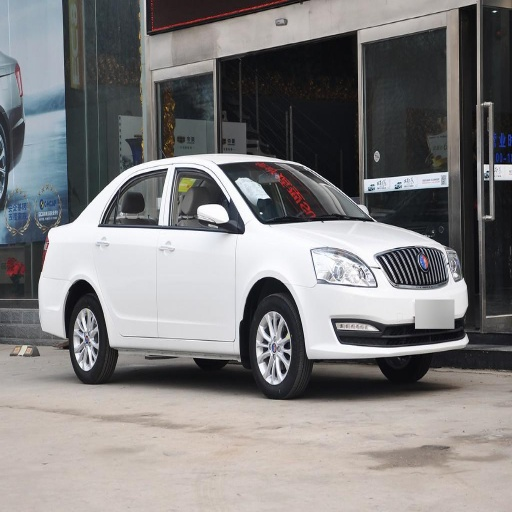front_bumper: (299, 248, 468, 358)
front_right_door: (158, 166, 242, 339)
front_right_light: (311, 246, 376, 287)
